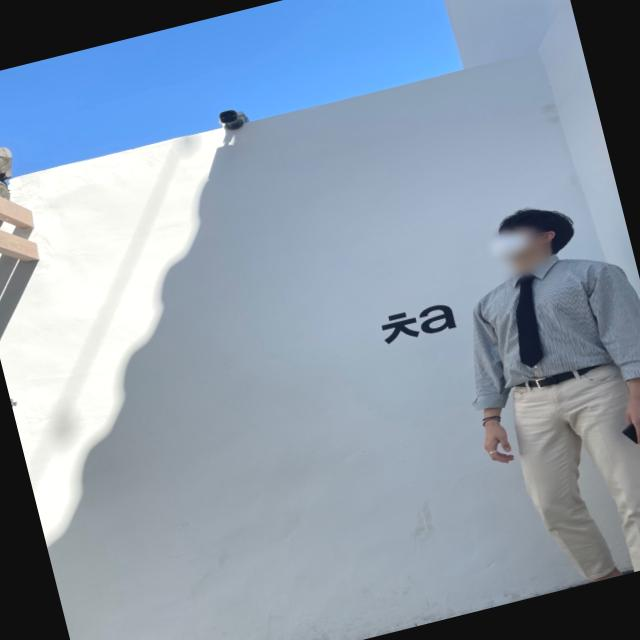cottonpants: (499, 351, 640, 592)
shirt: (442, 236, 640, 424)
